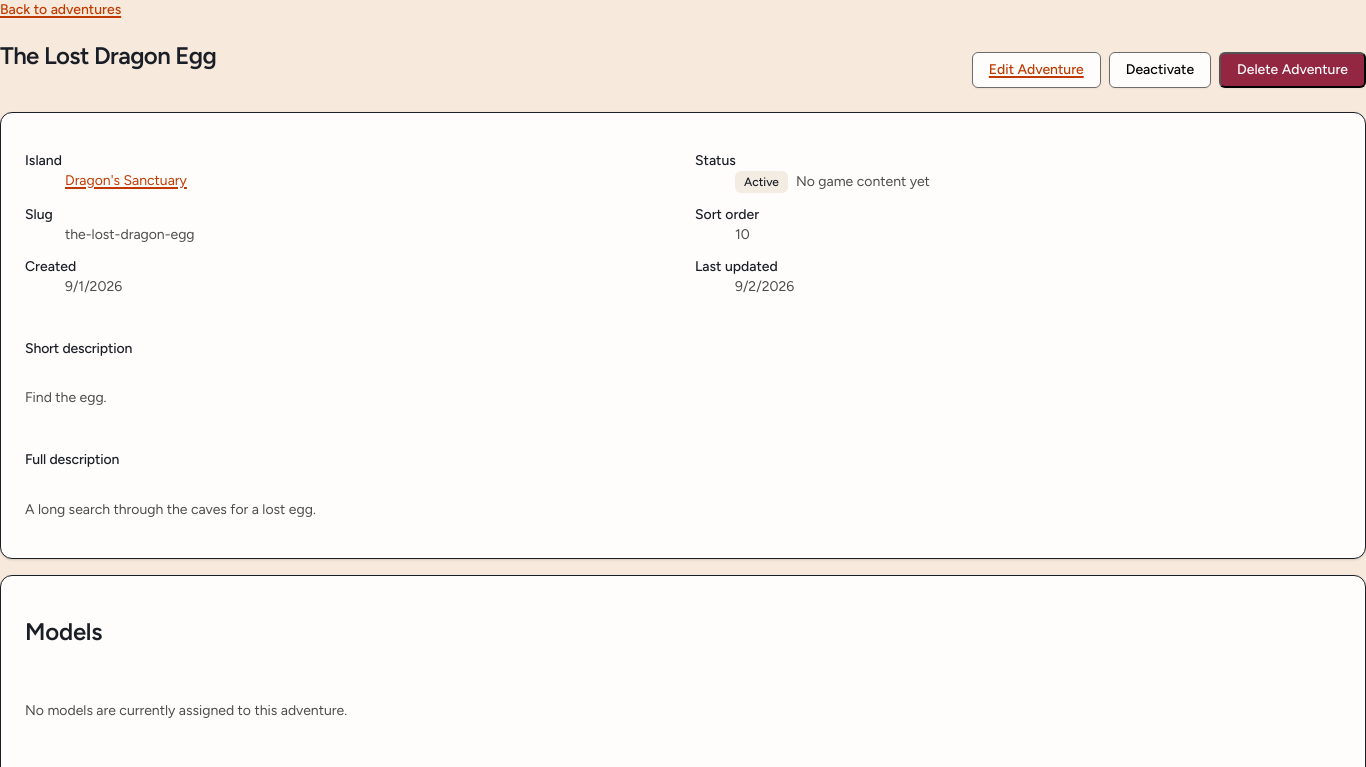
Test: AdminAdventureDetail › lets a superuser delete only after confirming
Click the button "Delete Adventure" at coordinates (1293, 70), box 1219,52 -> 1365,88
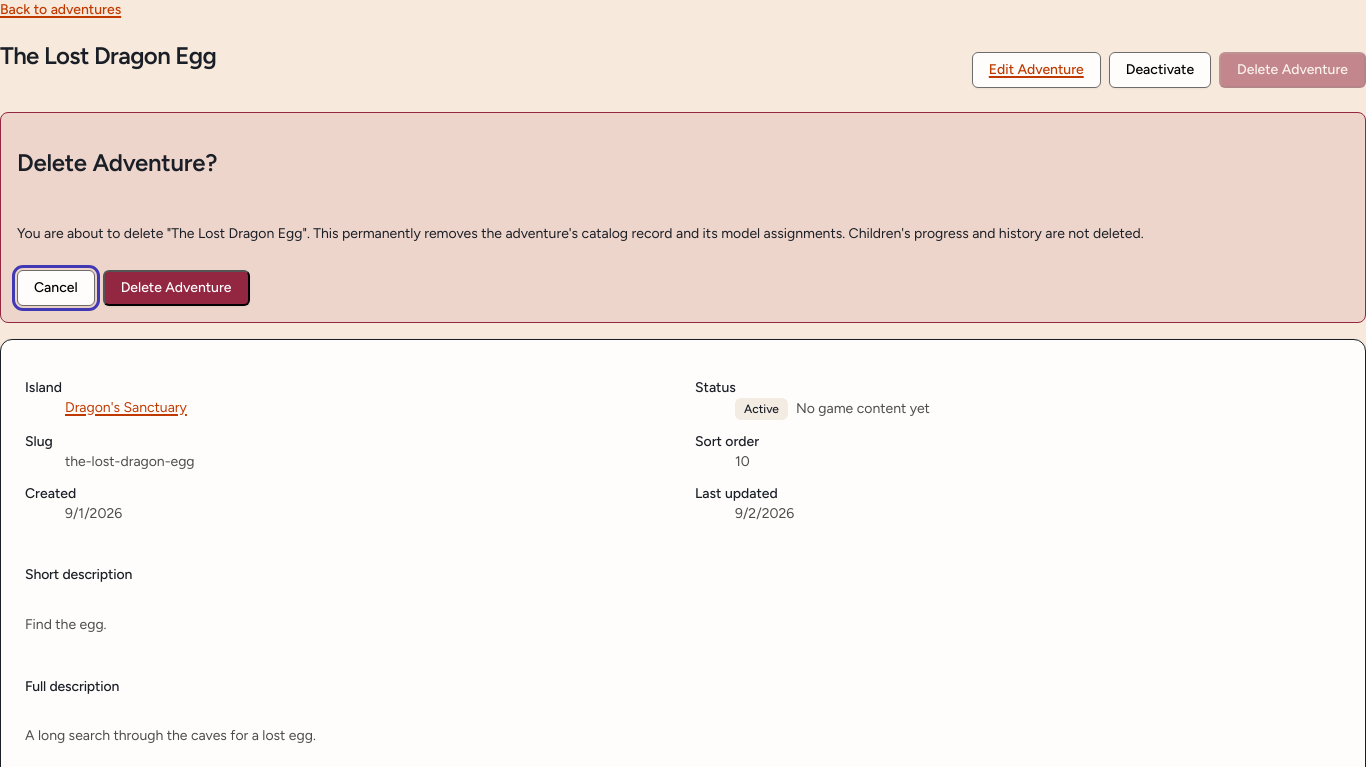
Check: the dialog "Delete Adventure?" shows "You are about to delete \"The Lost Dragon Egg\".", box 0,112 -> 1365,323
Click the button "Cancel" at coordinates (56, 288), box 17,270 -> 95,306
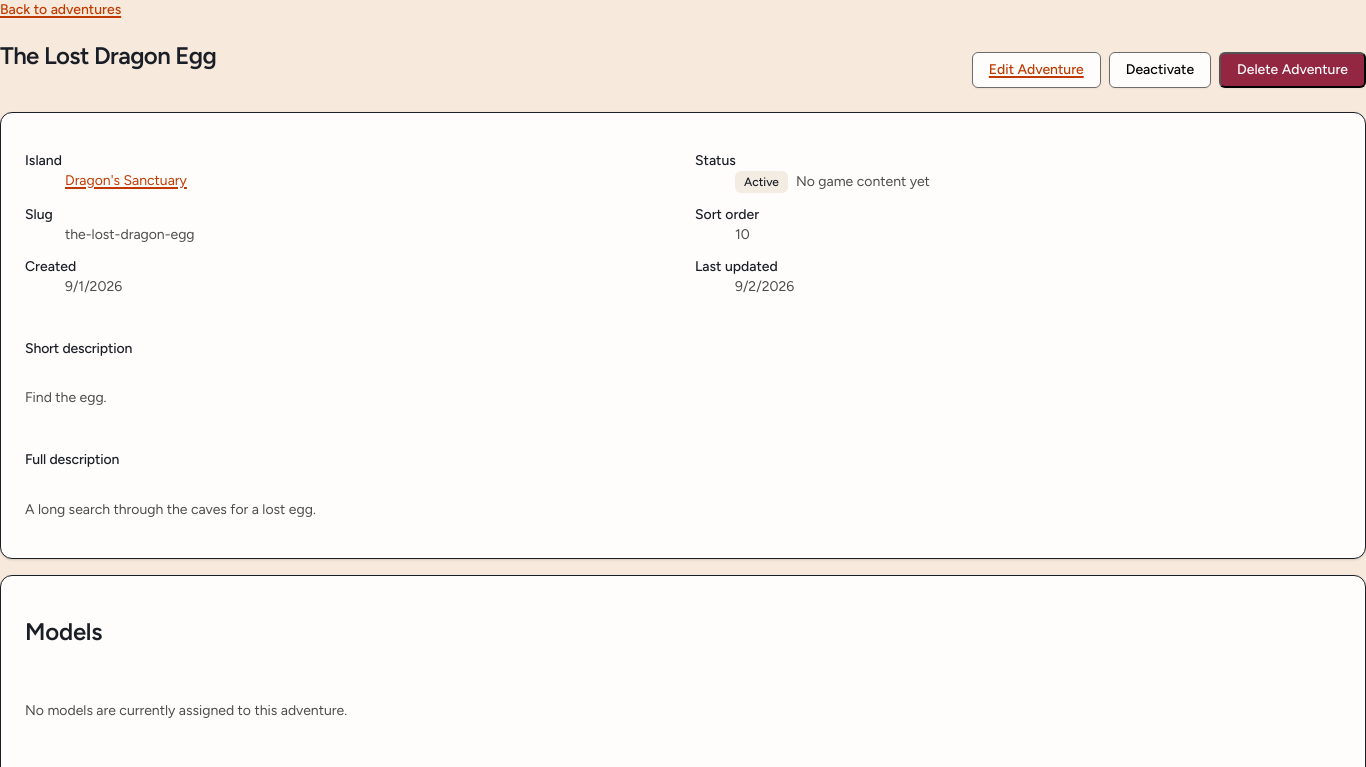
Check: the dialog is gone
Click the button "Delete Adventure" at coordinates (1293, 70), box 1219,52 -> 1365,88
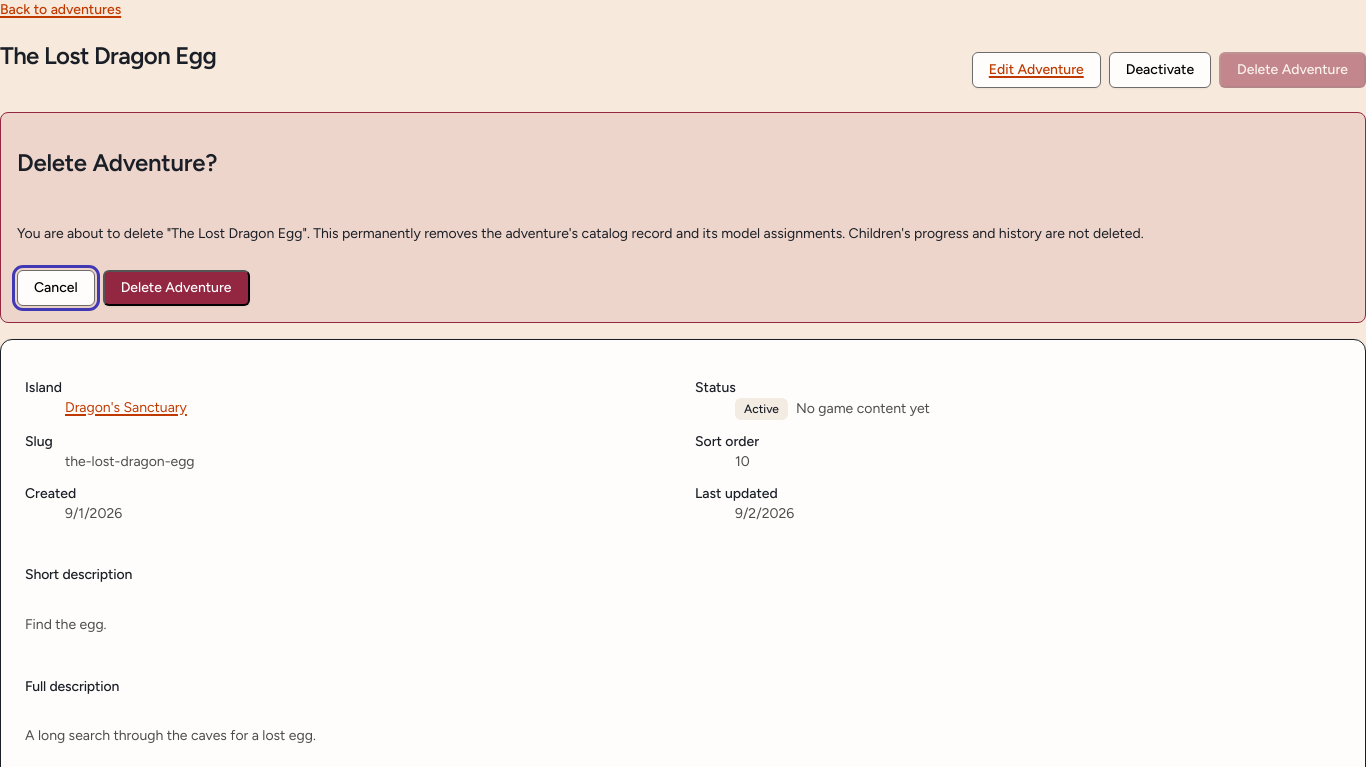
Check: the button "Delete Adventure" below "You are about to delete \"" is enabled
Click the button "Delete Adventure" below "You are about to delete \"" at coordinates (176, 288), box 103,270 -> 250,306
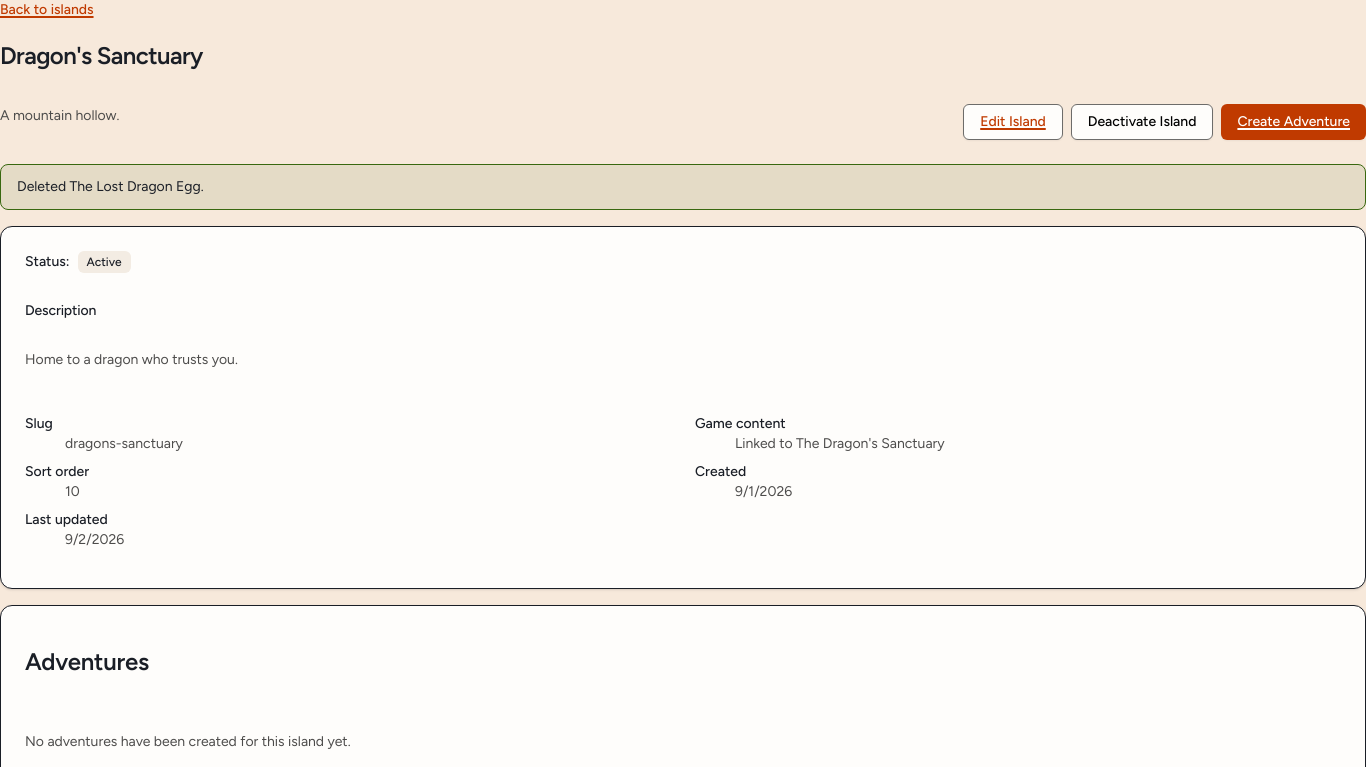
Check: the message reads "Deleted The Lost Dragon Egg.", box 17,178 -> 204,195
